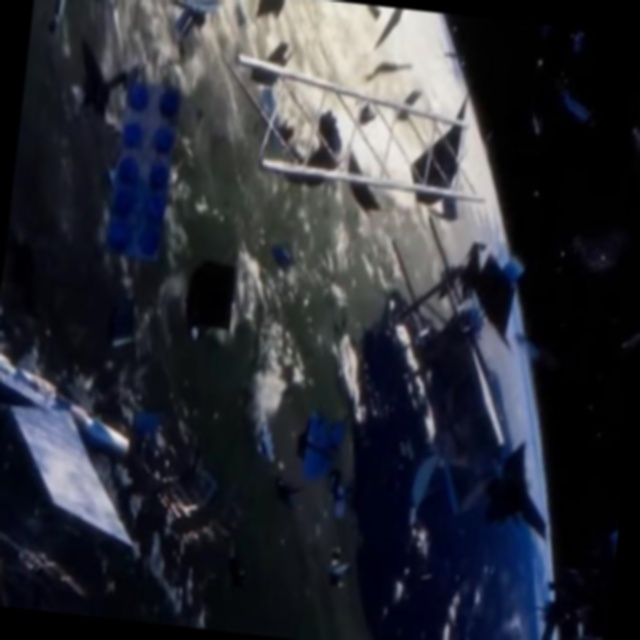large_debris: (330, 227, 584, 621), (220, 39, 510, 220), (0, 334, 173, 587), (89, 64, 200, 292), (174, 235, 256, 358)
